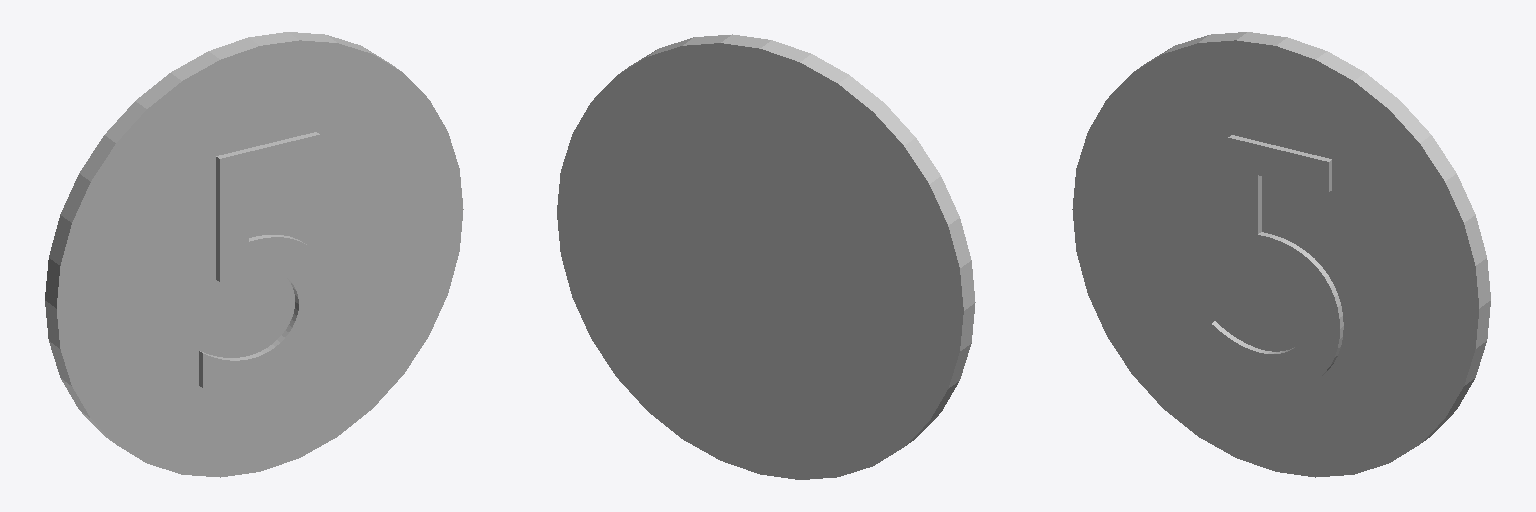
Rendered from coin.obj.
The picture shows the model from 3 angles: view 1: azimuth 30°, elevation 25°; view 2: azimuth 150°, elevation 25°; view 3: azimuth 330°, elevation 25°; orthographic projection.
Bounding box in the file's own units: 0.56 × 0.56 × 0.0366.